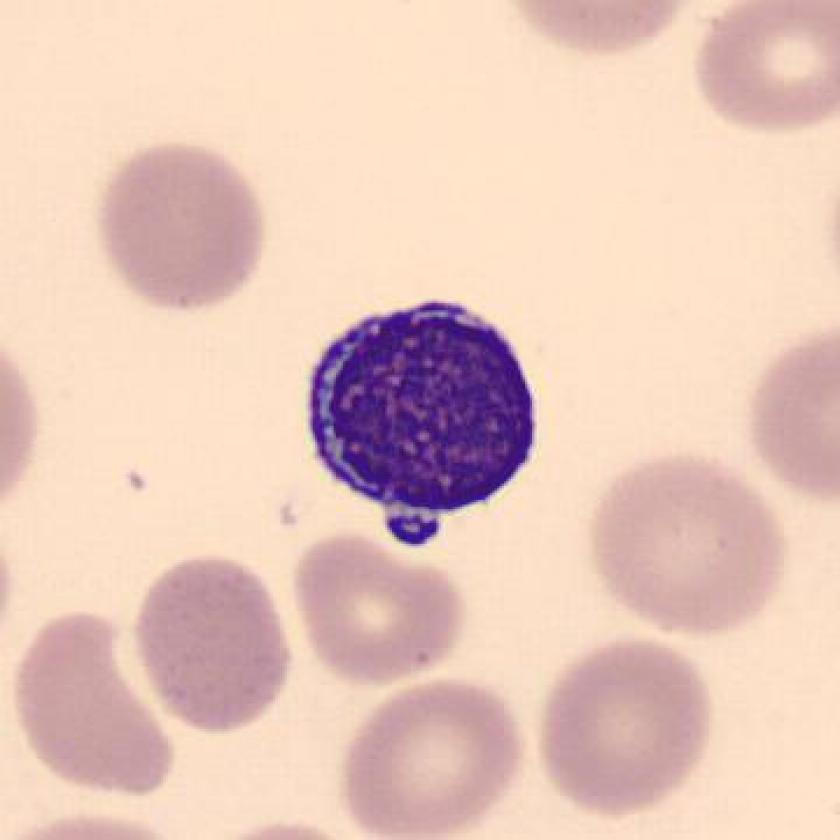lymphocyte: (293, 281, 556, 570)
